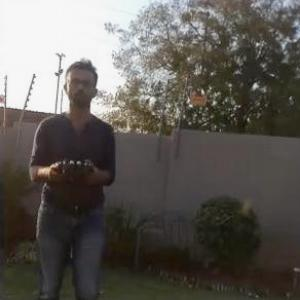follow: (24, 54, 120, 299)
